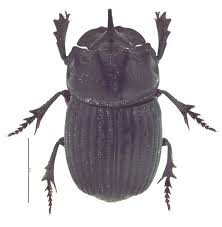Hawaii Scarab Beetle: (16, 4, 214, 221)
